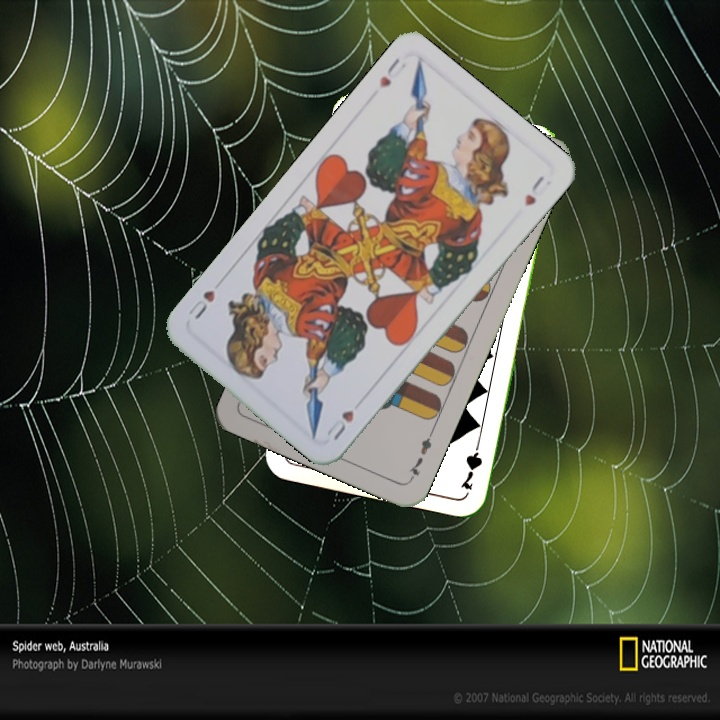E7: (404, 427, 436, 483)
G7: (457, 434, 485, 493)
HU: (322, 406, 357, 443), (375, 53, 409, 91)
